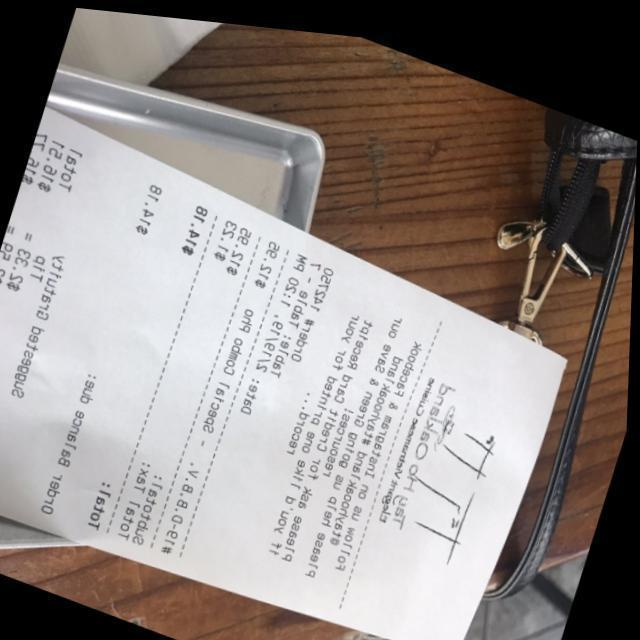Paper: (0, 98, 592, 640)
